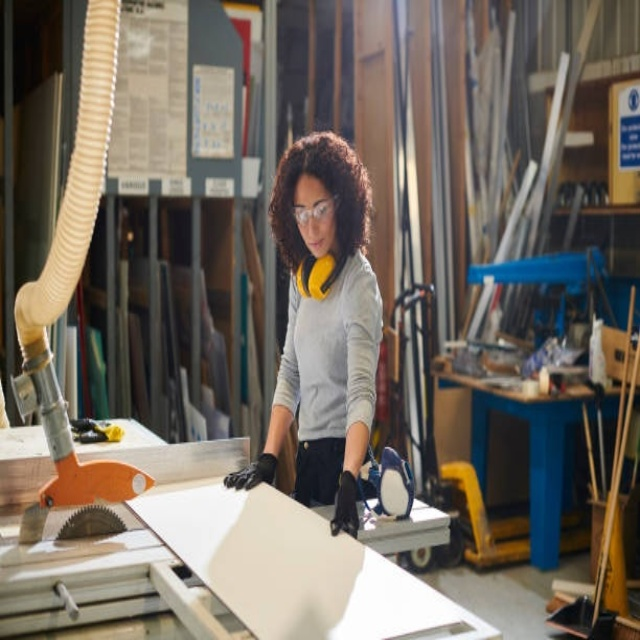Gafas: (293, 193, 339, 224)
Guantes: (223, 453, 279, 492), (331, 471, 361, 538)
Sin_mascara: (303, 234, 329, 256)
